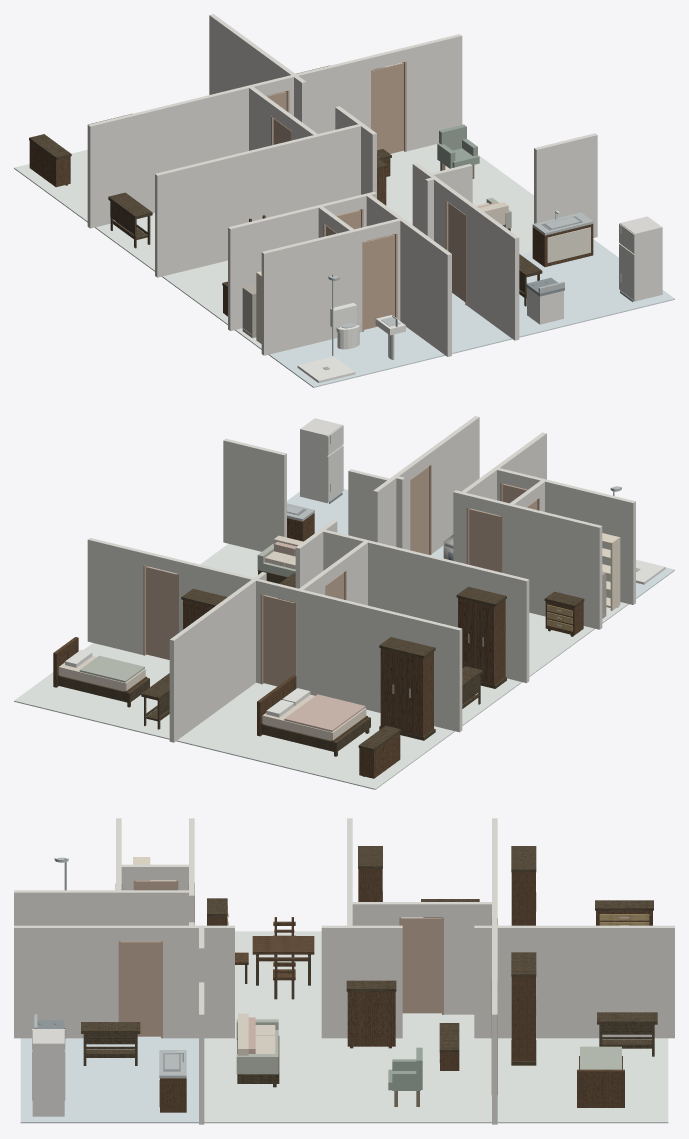
The picture shows the model from 3 angles, top to bottom: view 1: azimuth 30°, elevation 25°; view 2: azimuth 150°, elevation 25°; view 3: azimuth 270°, elevation 25°; orthographic projection. The views are drawn at different scales.
Visible parts, largest first — view 1: H20_WALL_07, H20_WALL_19, H20_WALL_17, H20_WALL_13, H20_WALL_04, H20_WALL_00, H20_FLOOR_02_COZINHA, H20_WALL_05, H20_FLOOR_01_SALA, H20_WALL_12, H20_FLOOR_09_BANHEIRO, H20_WALL_01 (+20 smaller); view 2: H20_WALL_19, H20_WALL_07, H20_WALL_01, H20_WALL_12, H20_FLOOR_03_QUARTO_1, H20_WALL_05, H20_WALL_00, H20_FLOOR_00_QUARTO_2, H20_WALL_17, H20_WALL_04, H20_DOOR_01_LEAF, H20_DOOR_00_LEAF (+35 smaller); view 3: H20_FLOOR_01_SALA, H20_WALL_01, H20_FLOOR_00_QUARTO_2, H20_WALL_04, H20_FLOOR_02_COZINHA, H20_WALL_03, H20_WALL_02, H20_FLOOR_06_JANTAR, H20_WALL_13, H20_WALL_08, H20_DOOR_02_LEAF, H20_DOOR_03_LEAF (+32 smaller).
Part boxes in pixels (x1=…): H20_WALL_07: x1=155, y1=124, x2=360, y2=277; H20_WALL_19: x1=87, y1=85, x2=254, y2=228; H20_WALL_17: x1=261, y1=228, x2=362, y2=355; H20_WALL_13: x1=366, y1=194, x2=451, y2=356; H20_WALL_04: x1=466, y1=202, x2=519, y2=340; H20_WALL_00: x1=403, y1=34, x2=462, y2=151; H20_FLOOR_02_COZINHA: x1=519, y1=239, x2=674, y2=337; H20_WALL_05: x1=534, y1=133, x2=597, y2=237; H20_FLOOR_01_SALA: x1=386, y1=144, x2=533, y2=254; H20_WALL_12: x1=228, y1=203, x2=328, y2=330; H20_FLOOR_09_BANHEIRO: x1=268, y1=327, x2=445, y2=387; H20_WALL_01: x1=209, y1=14, x2=306, y2=124; H20_WALL_19: x1=295, y1=588, x2=462, y2=732; H20_WALL_07: x1=321, y1=530, x2=529, y2=683; H20_WALL_01: x1=169, y1=572, x2=266, y2=742; H20_WALL_12: x1=501, y1=502, x2=602, y2=629; H20_FLOOR_03_QUARTO_1: x1=176, y1=682, x2=454, y2=789; H20_WALL_05: x1=223, y1=438, x2=286, y2=551; H20_WALL_00: x1=87, y1=538, x2=146, y2=654; H20_FLOOR_00_QUARTO_2: x1=14, y1=643, x2=169, y2=739; H20_WALL_17: x1=534, y1=477, x2=635, y2=604; H20_WALL_04: x1=427, y1=416, x2=479, y2=553; H20_DOOR_01_LEAF: x1=263, y1=595, x2=294, y2=686; H20_DOOR_00_LEAF: x1=146, y1=566, x2=177, y2=659; H20_FLOOR_01_SALA: x1=204, y1=1037, x2=491, y2=1123; H20_WALL_01: x1=474, y1=925, x2=674, y2=1038; H20_FLOOR_00_QUARTO_2: x1=497, y1=1038, x2=668, y2=1123; H20_WALL_04: x1=14, y1=925, x2=119, y2=1038; H20_FLOOR_02_COZINHA: x1=20, y1=1037, x2=198, y2=1123; H20_WALL_03: x1=162, y1=925, x2=234, y2=1038; H20_WALL_02: x1=321, y1=925, x2=402, y2=1038; H20_FLOOR_06_JANTAR: x1=235, y1=931, x2=321, y2=1036; H20_WALL_13: x1=14, y1=890, x2=191, y2=941; H20_WALL_08: x1=443, y1=902, x2=494, y2=1014; H20_DOOR_02_LEAF: x1=401, y1=918, x2=441, y2=1013; H20_DOOR_03_LEAF: x1=120, y1=941, x2=160, y2=1036.
Size of the model in its own units: 9.27 by 2.46 by 13.2.
Materials: 22 (3 with a texture image).
